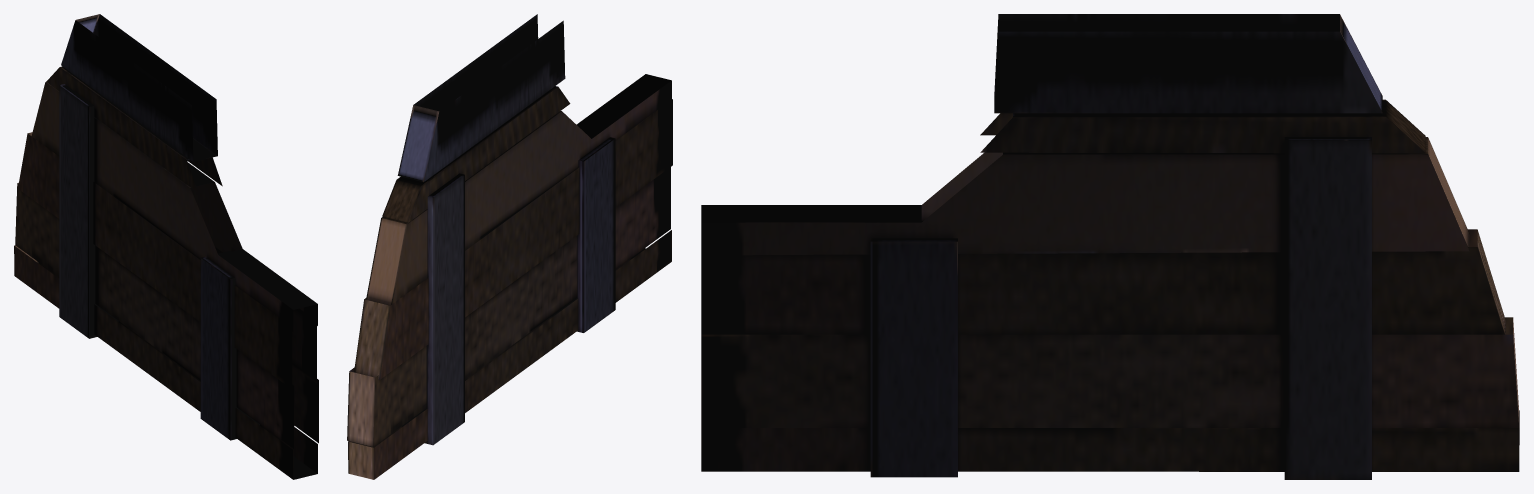
Rendered from ex_DoorSide2.obj.
3 views of the same model, side by side, from view 1: azimuth 30°, elevation 25°; view 2: azimuth 150°, elevation 25°; view 3: azimuth 270°, elevation 25° (orthographic). The views are drawn at different scales.
Parts seen in each view (by area): view 1: Cube.001_Cube.422; view 2: Cube.001_Cube.422; view 3: Cube.001_Cube.422.
Part boxes in pixels (x1=…): Cube.001_Cube.422: x1=14, y1=14, x2=318, y2=479; Cube.001_Cube.422: x1=347, y1=14, x2=672, y2=479; Cube.001_Cube.422: x1=701, y1=14, x2=1519, y2=479.
Bounding box in the file's own units: 12.66 × 107 × 179.
1 material, 1 textured.
